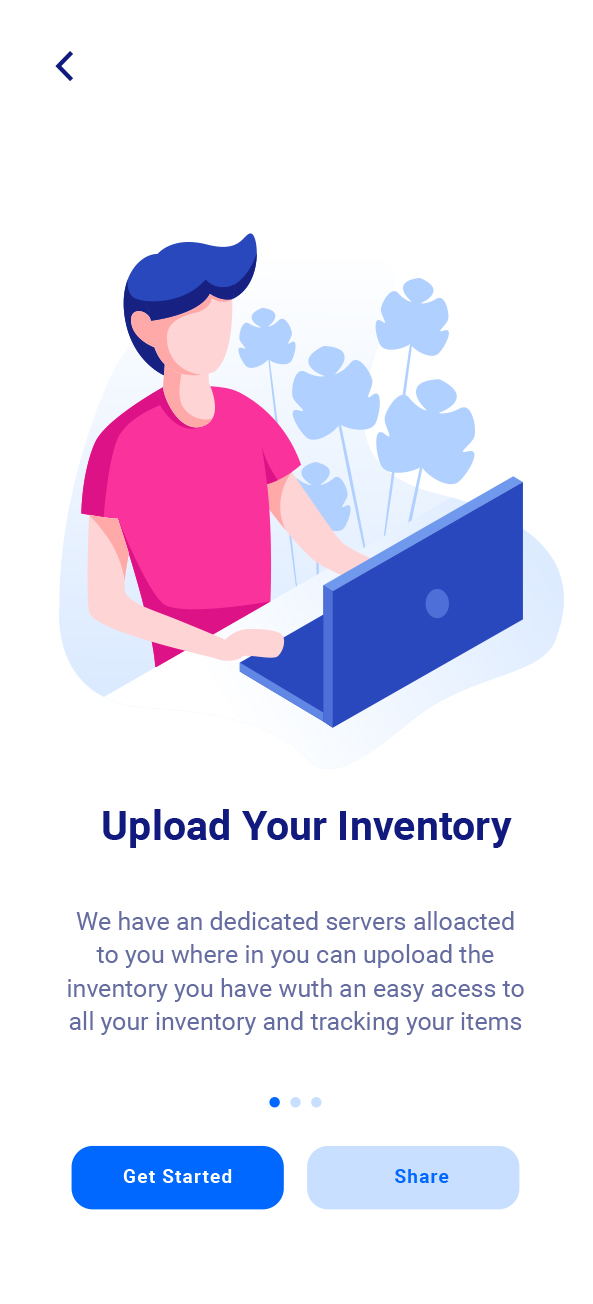Icon: (56, 51, 75, 83)
Image: (58, 233, 565, 769)
PageIndicator: (268, 1095, 323, 1110)
Text: (68, 910, 525, 1037), (103, 808, 513, 849)
TextButton: (72, 1145, 285, 1210), (307, 1146, 520, 1210)
